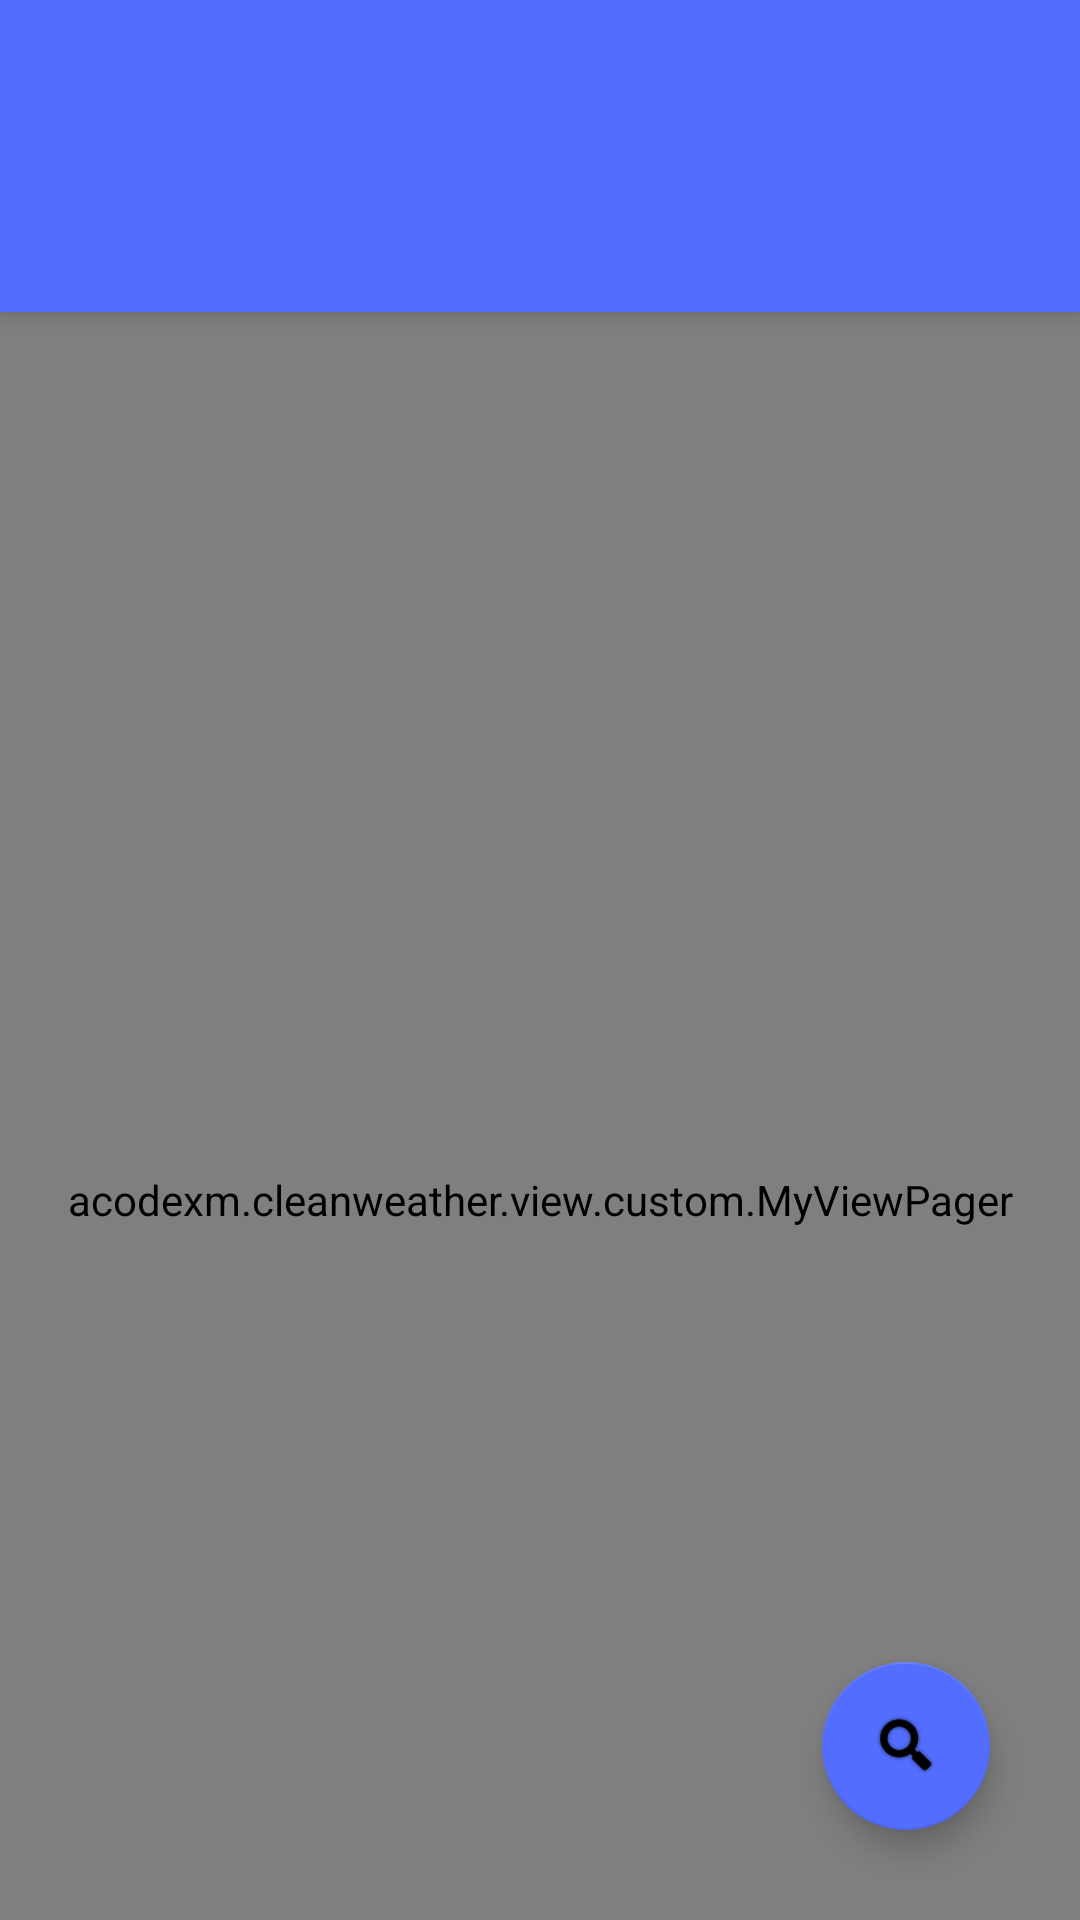

Icons on this 1080×1920 Android screen, each with the point to tap as point (x, y):
search category: point (906, 1746)
